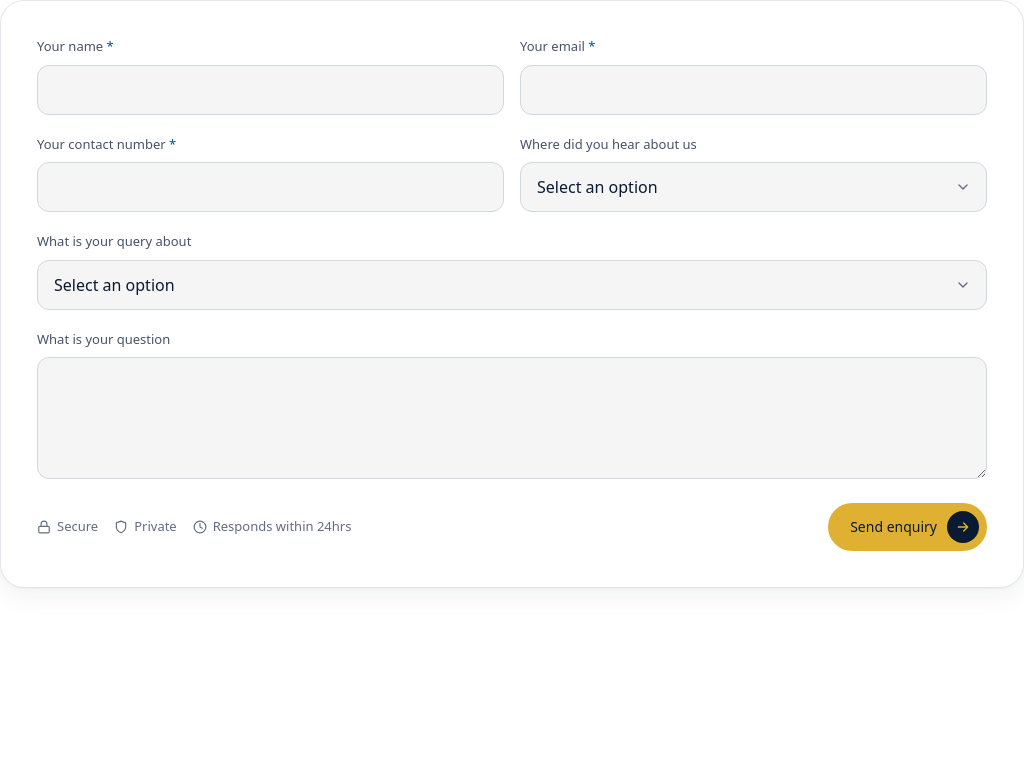
Test: EnquiryForm › shows an error for each missing required field and focuses the first
Step 1. Click the button "Send enquiry Send enquiry" → (908,527), box [828,503,987,551]
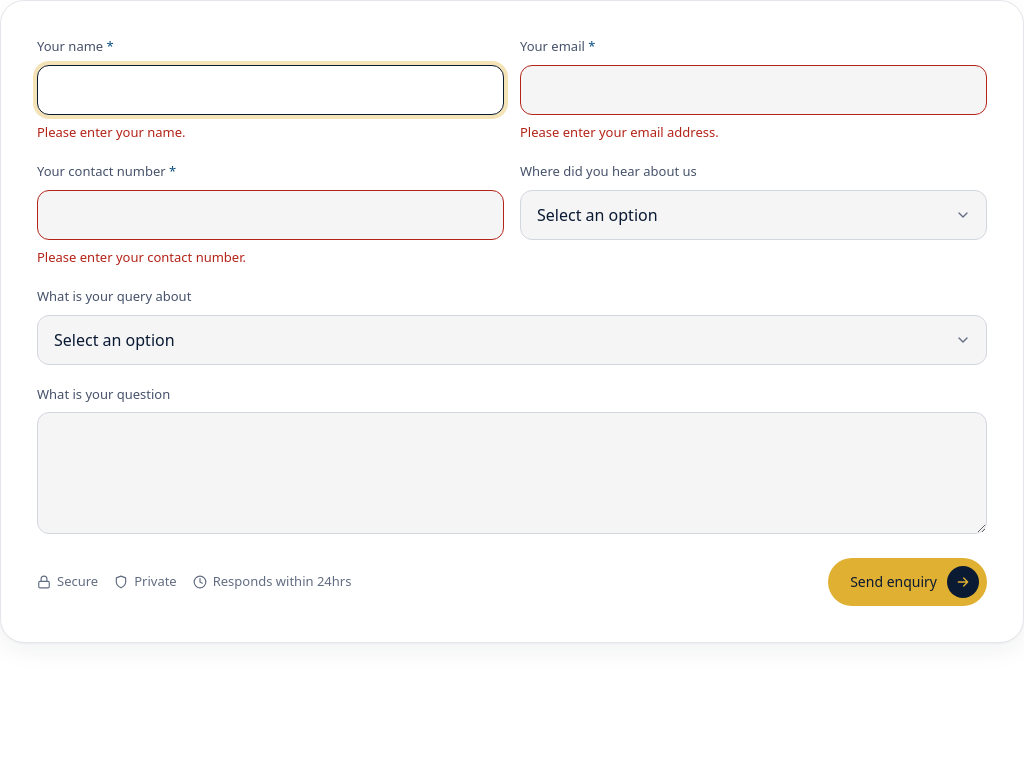
expect the text "Please enter your name." is shown: met, box [37,122,186,140]
expect the text "Please enter your email address." is shown: met, box [520,122,719,140]
expect the text "Please enter your contact number." is shown: met, box [37,248,246,266]
